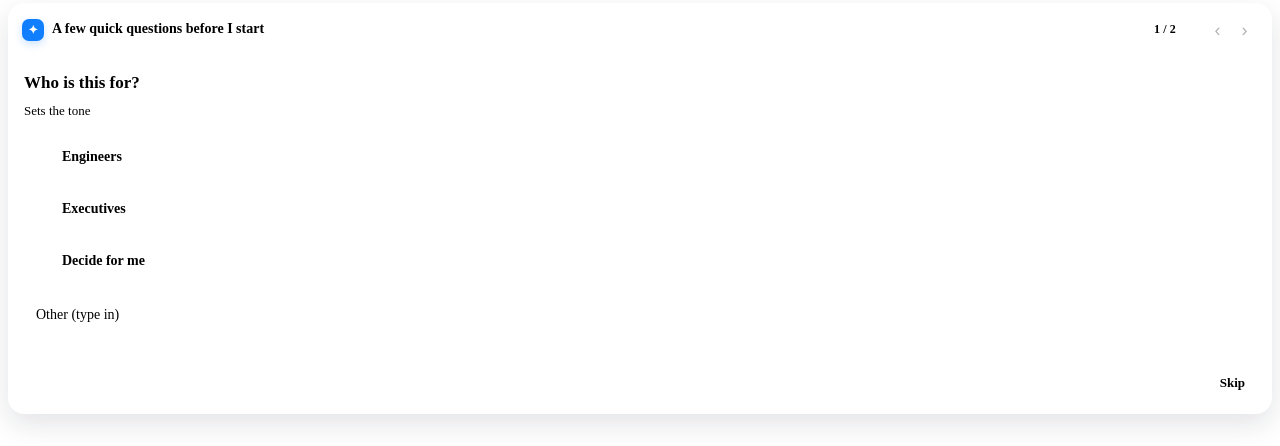
AiClarifyCard › walks to the next question through the header pager after answering
Check: the button named "Next" is disabled, box [1231, 16, 1258, 43]
Click the radio button with class "ai-clarify-opt" showing "Engineers". click: (92, 156)
box: [24, 134, 1256, 178]
Wait 300 ms
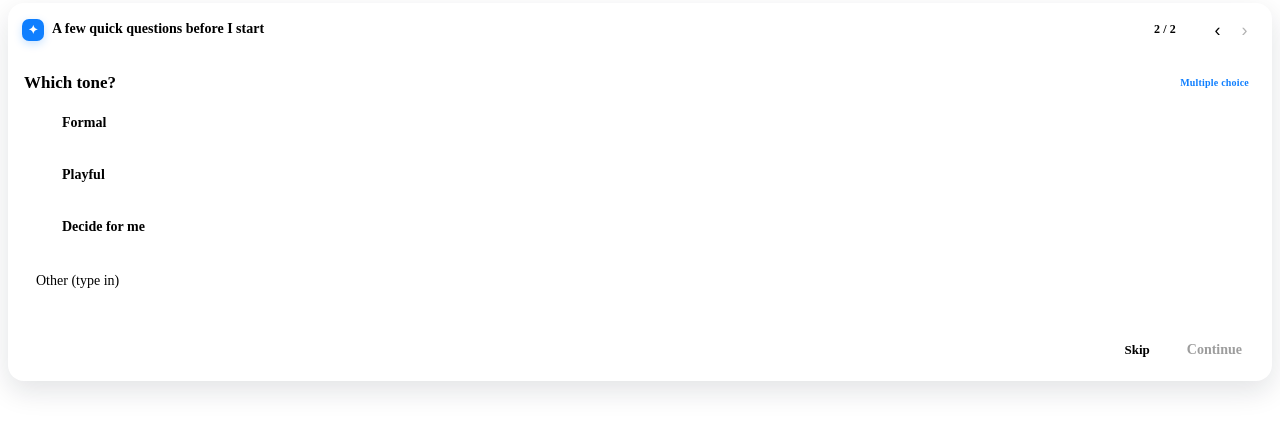
Check: the text with class "ai-clarify-head-progress" reads "2 / 2", box [1154, 22, 1176, 36]
Check: the text with class "ai-clarify-label" reads "Which tone?", box [24, 73, 116, 92]
